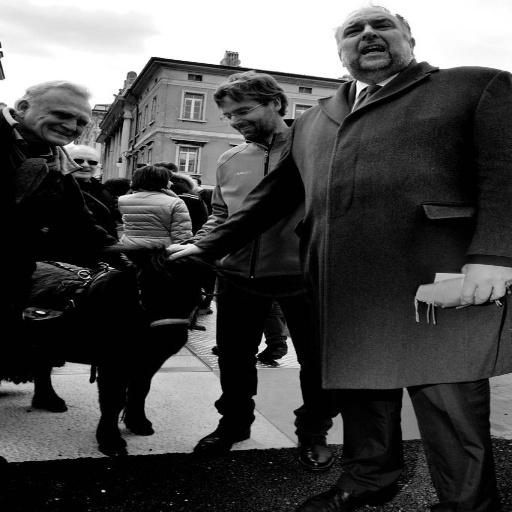hand: (458, 262, 511, 305), (164, 243, 203, 262)
